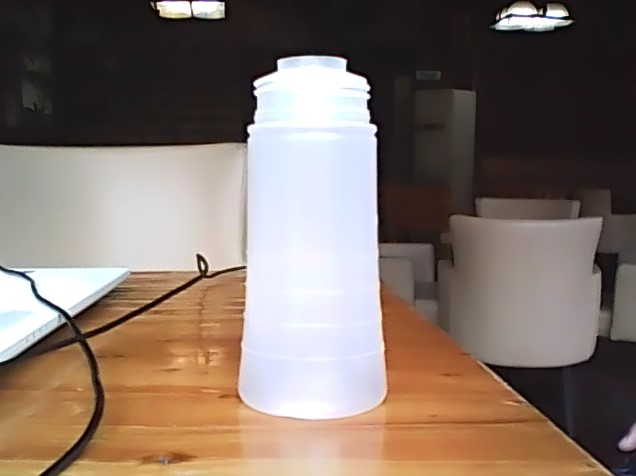Plastic: (234, 57, 393, 424)
